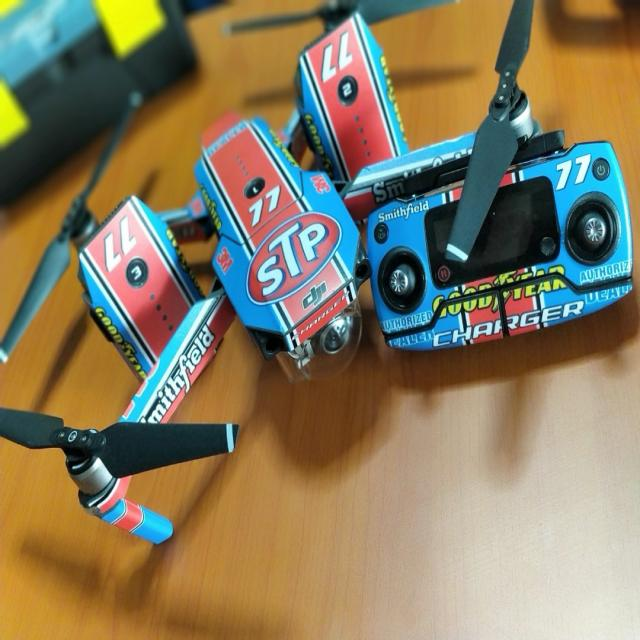drone: (1, 1, 561, 532)
